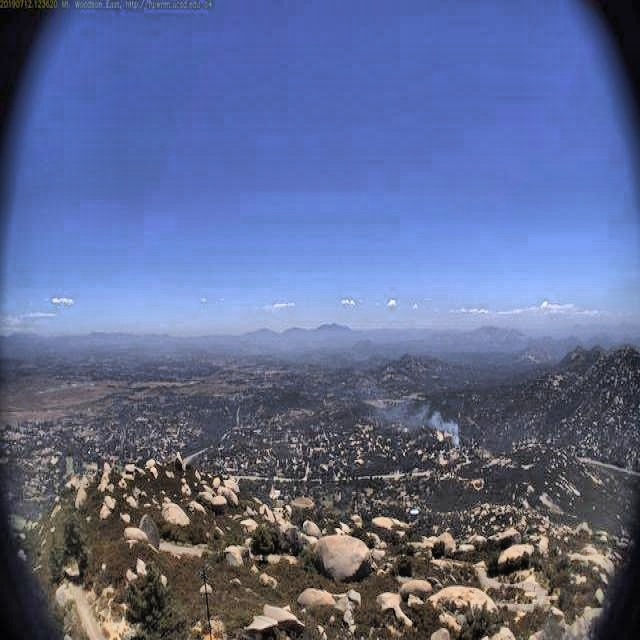smoke: (375, 395, 462, 449)
